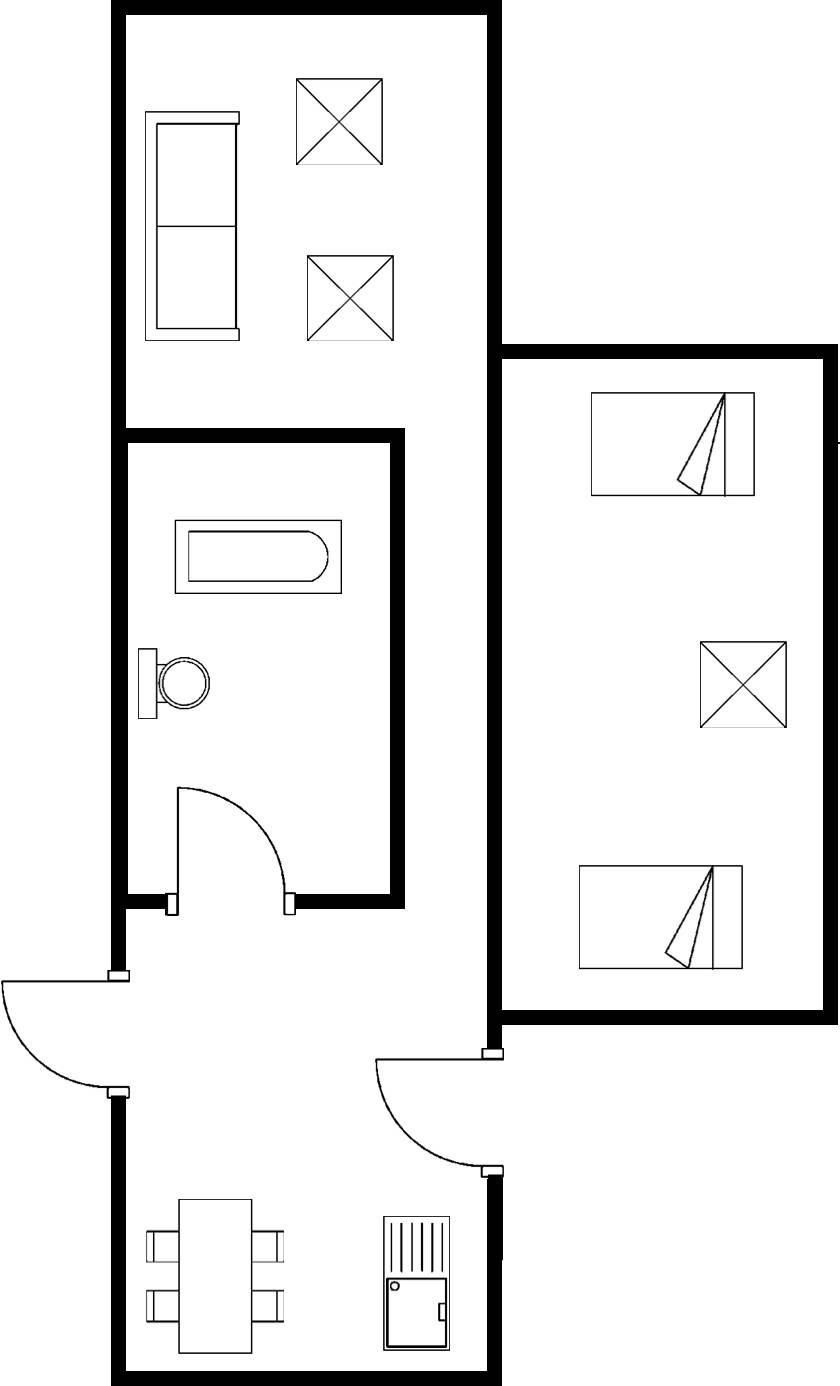bed: (581, 383, 766, 509), (573, 857, 757, 980)
coffee_table: (691, 634, 797, 733), (296, 249, 404, 346), (289, 71, 392, 172)
dining_table: (135, 1188, 301, 1363)
large_sink: (133, 640, 218, 729)
large_sofa: (138, 102, 249, 348)
sink: (372, 1204, 465, 1363)
tub: (166, 515, 350, 602)
